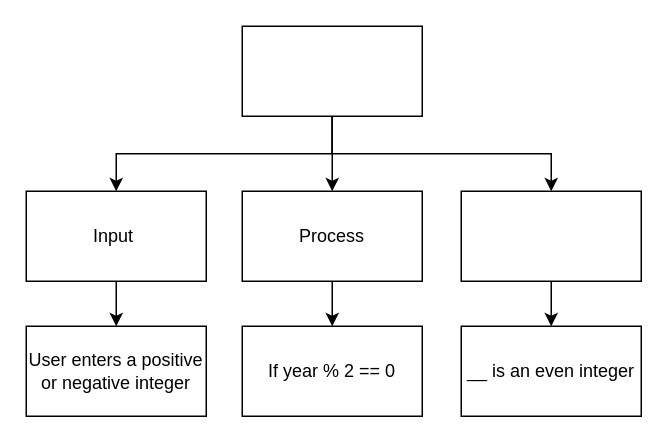
Some shapes in this 668 by 443 pixel diagram are drawn without their labels. Here are the shapes that lost their labels. From the top down, the box of each, then its label:
(241, 25, 422, 116): Even Or Odd
(460, 190, 641, 281): Output
